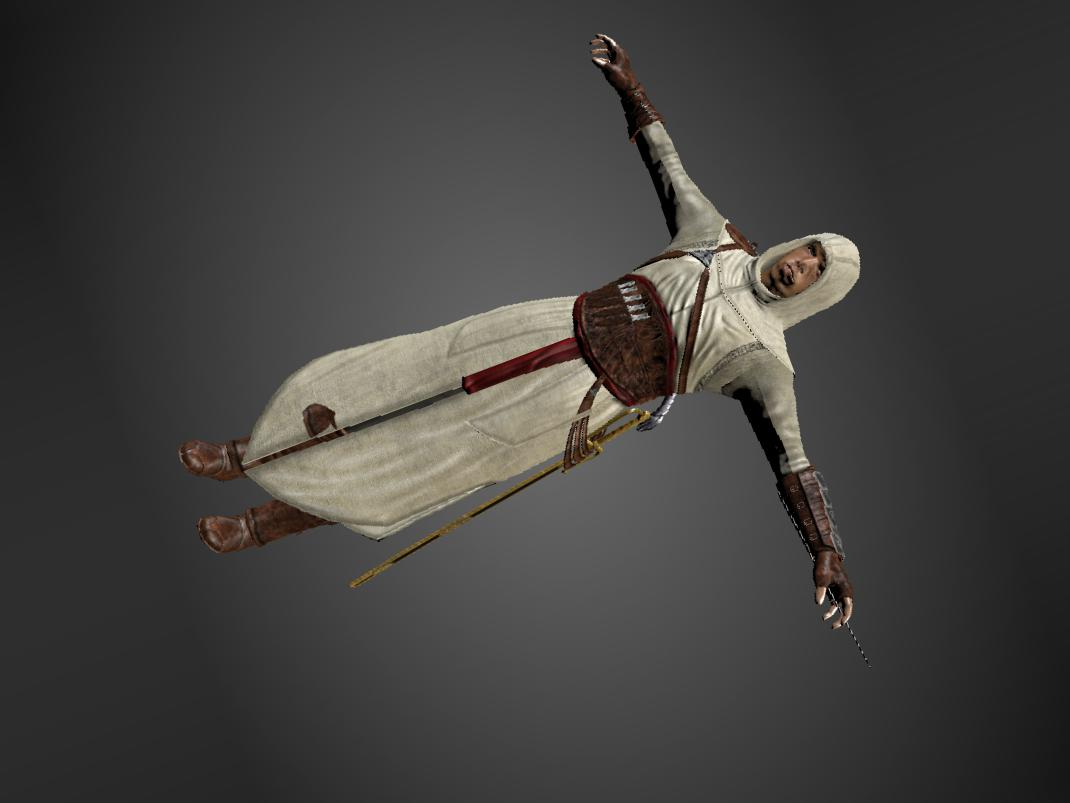clip: (296, 399, 340, 436)
